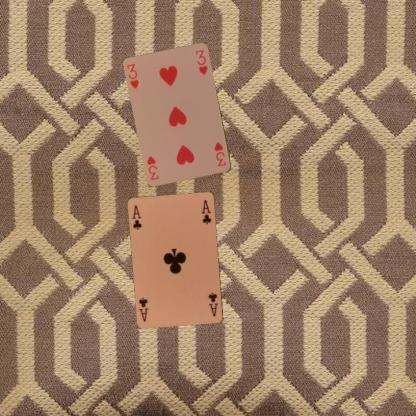3h: (124, 61, 142, 90), (212, 139, 227, 168)
Ac: (206, 290, 220, 318), (130, 203, 144, 231)
